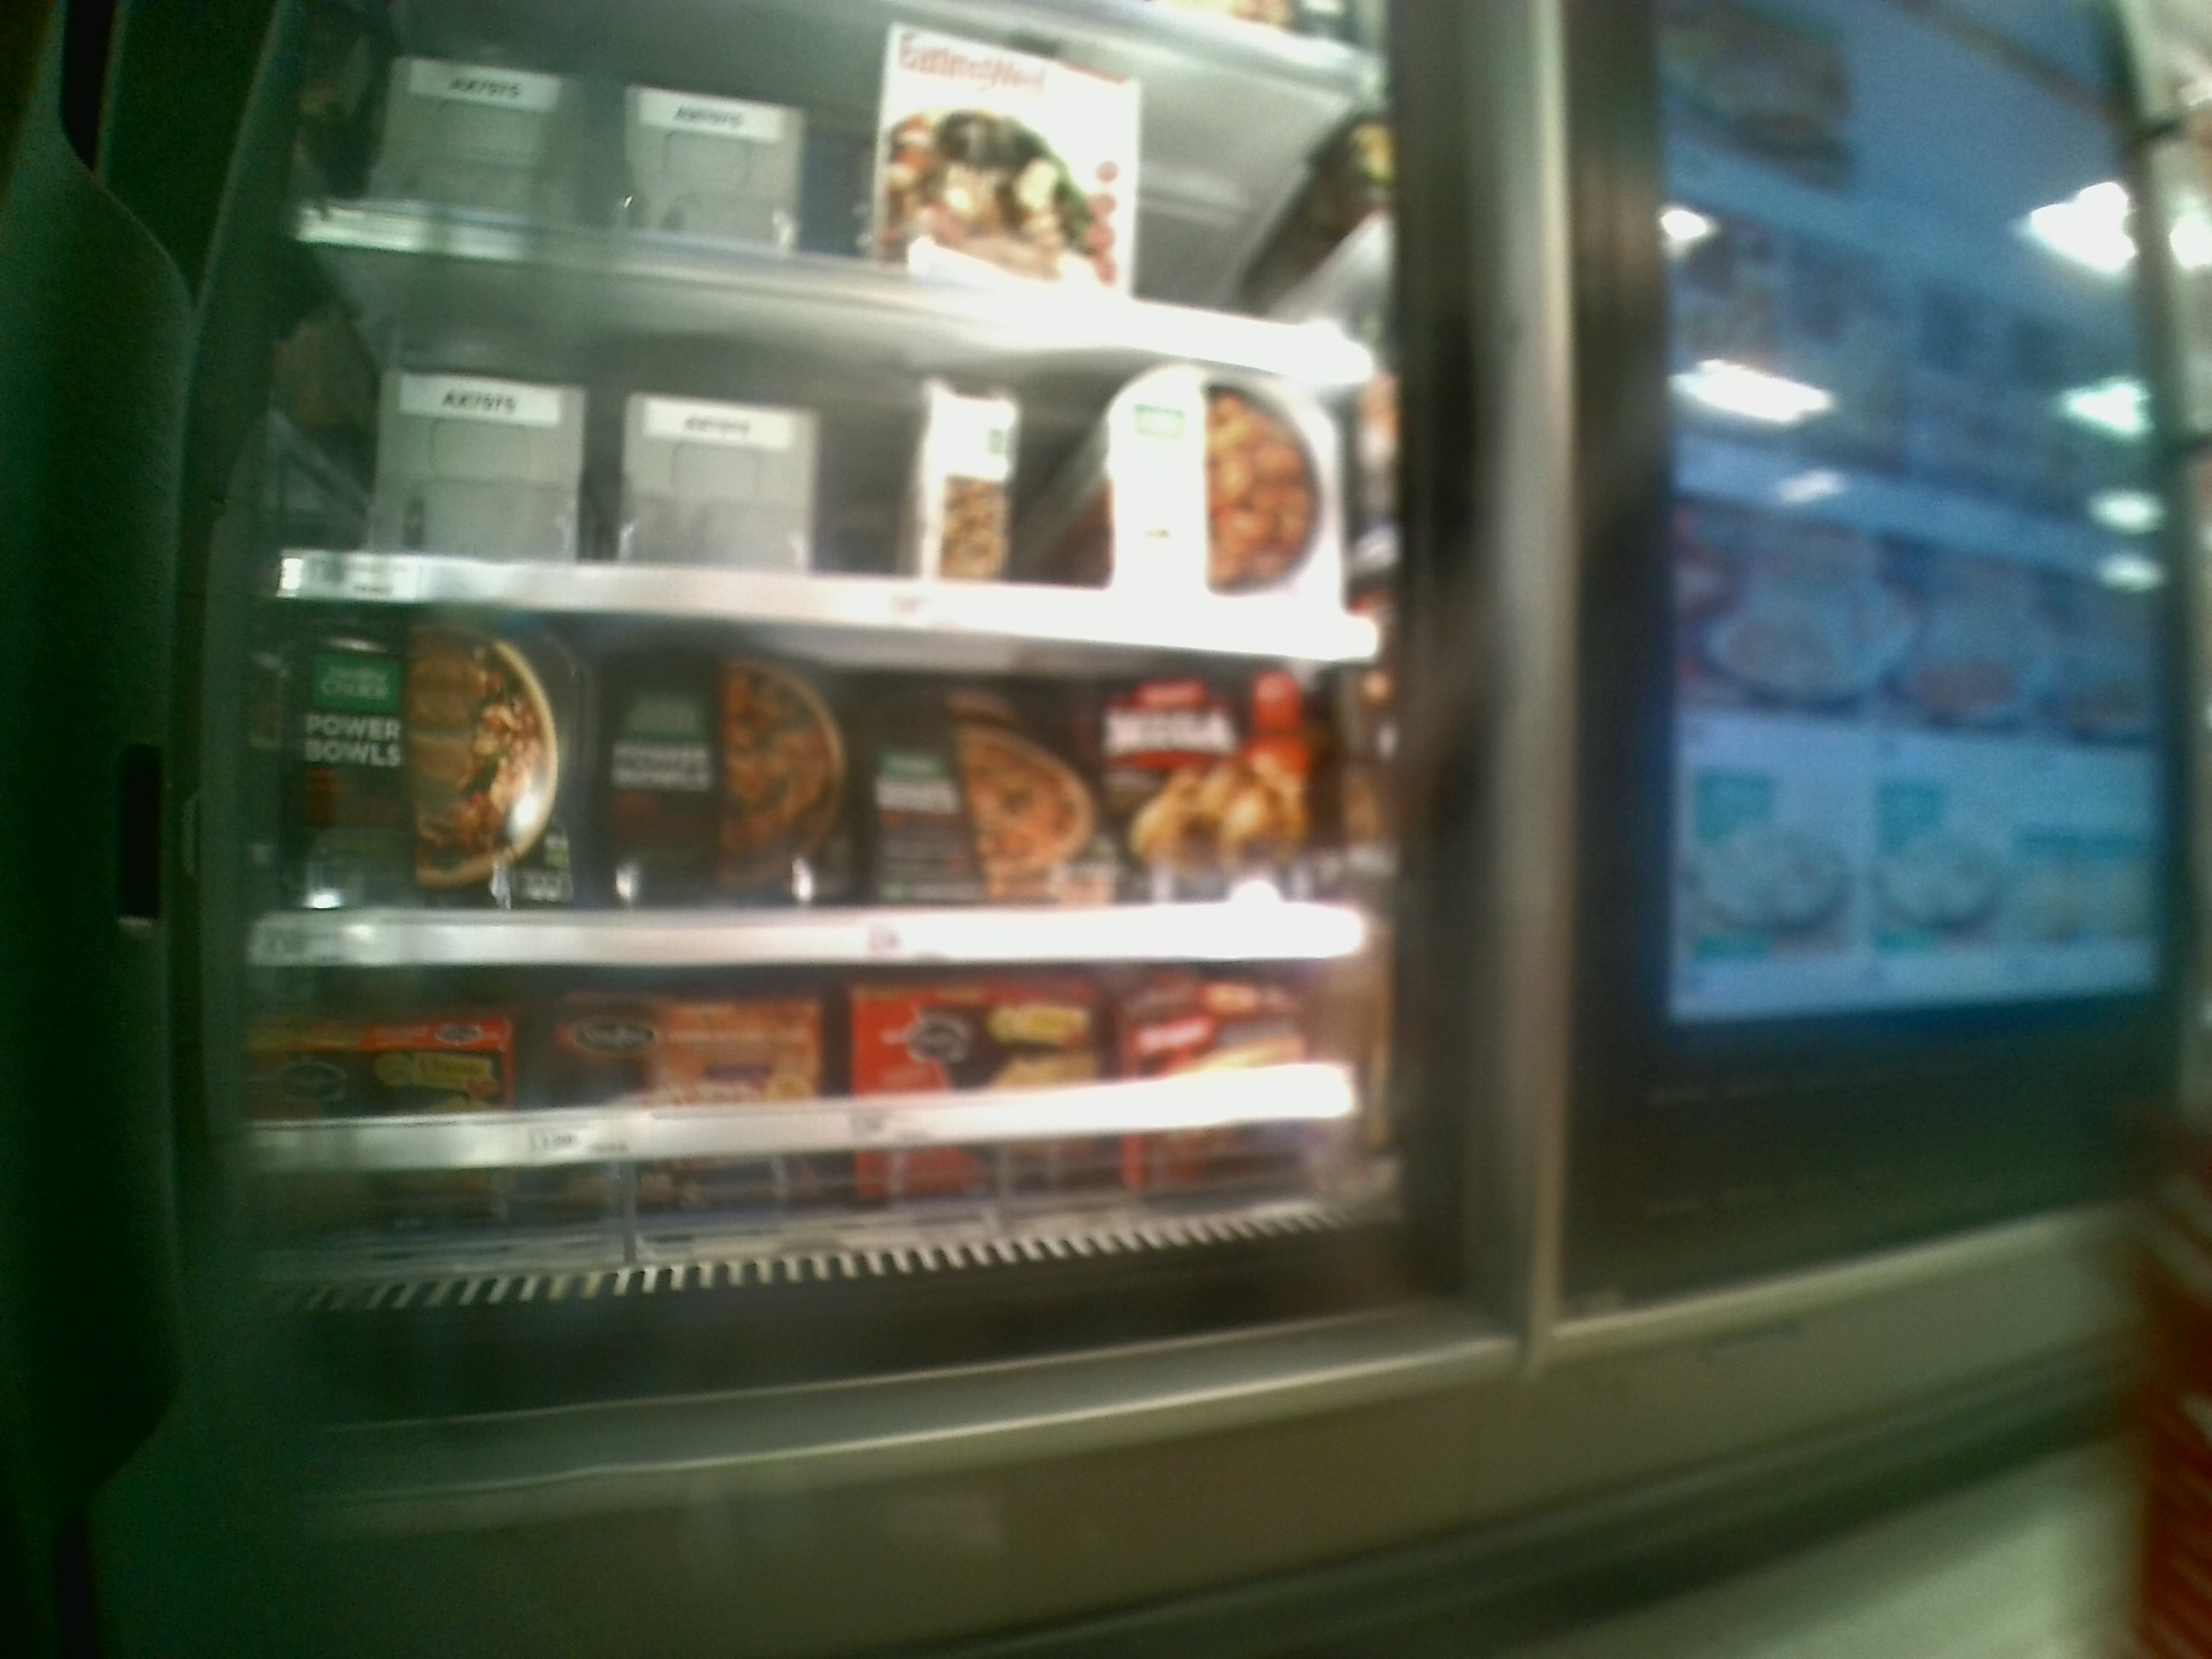shelf: (244, 950, 1411, 1324), (246, 598, 1374, 957)
